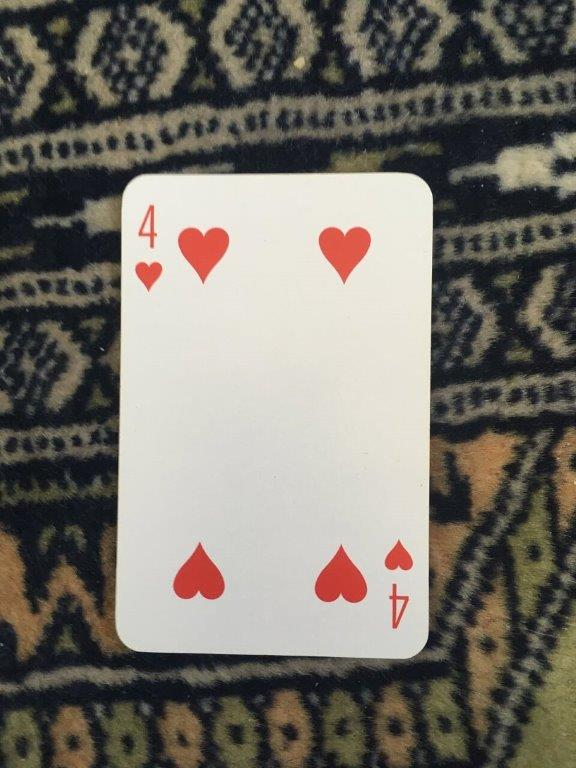4H: (111, 169, 437, 663)
